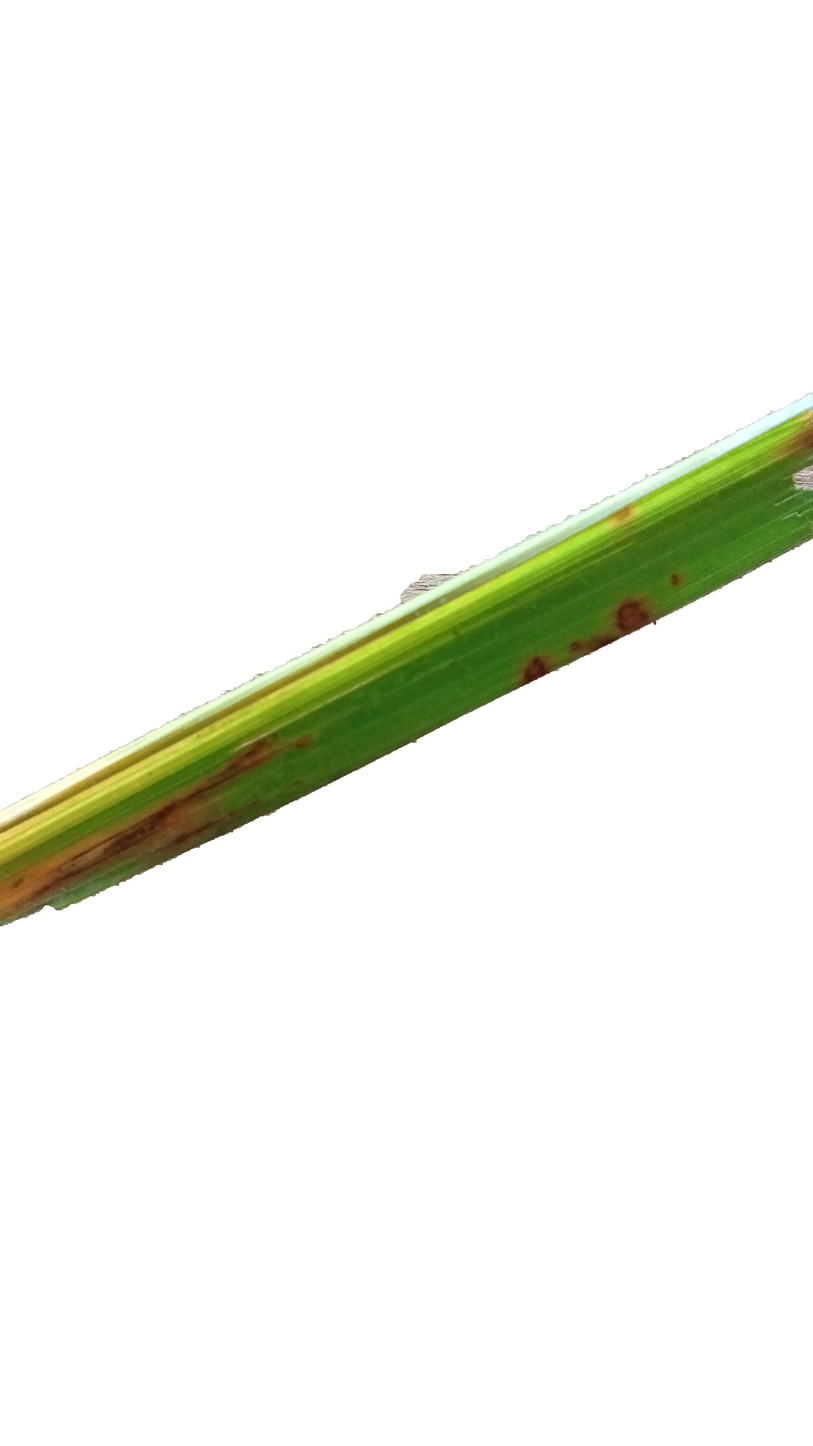Rice blast: (7, 702, 347, 923), (481, 575, 678, 695)
